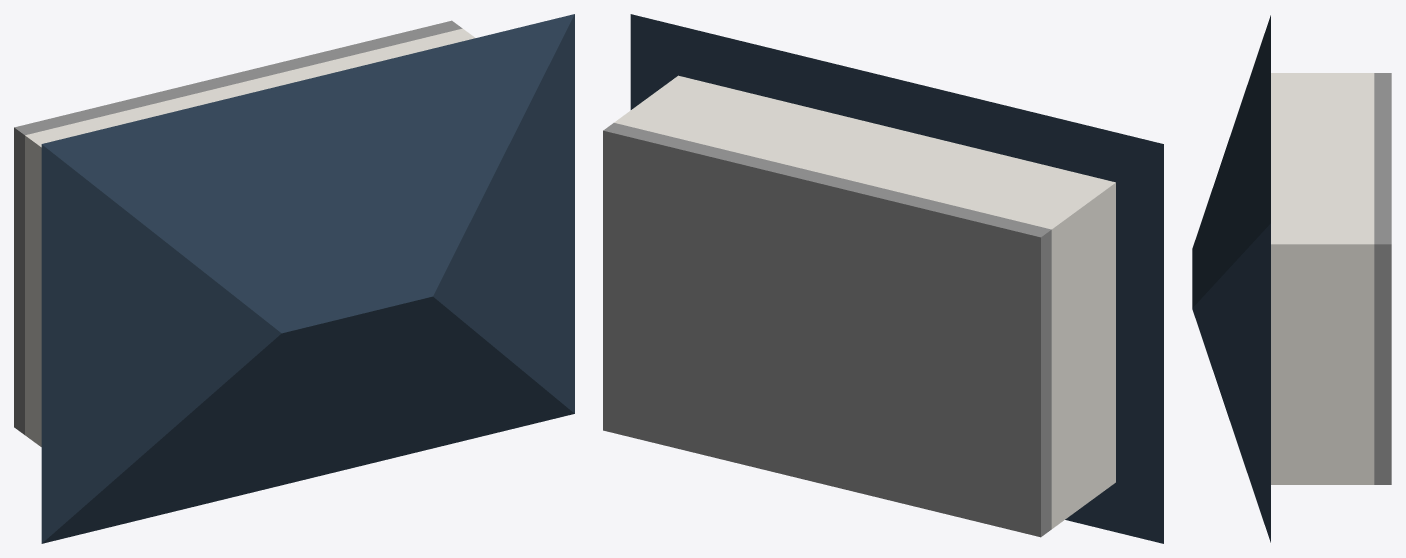
The model's file is NhaCap4_BIM.obj.
3 renders of one model, left to right at view 1: azimuth 30°, elevation 25°; view 2: azimuth 150°, elevation 25°; view 3: azimuth 270°, elevation 25°, orthographic. The views are drawn at different scales.
Visible parts, largest first — view 1: BIM_Mai, BIM_Tuong, BIM_Nen; view 2: BIM_Nen, BIM_Tuong, BIM_Mai; view 3: BIM_Tuong, BIM_Mai, BIM_Nen.
Boxes of the visible parts, x1,y1,x2,y2 form: BIM_Mai: (41,14,574,543); BIM_Tuong: (25,28,475,446); BIM_Nen: (14,20,462,434); BIM_Nen: (603,123,1051,537); BIM_Tuong: (614,75,1115,528); BIM_Mai: (630,14,1163,543); BIM_Tuong: (1271,73,1374,484); BIM_Mai: (1192,15,1270,542); BIM_Nen: (1374,73,1391,484).
Bounding box in the file's own units: 13400 × 9600 × 5410.
